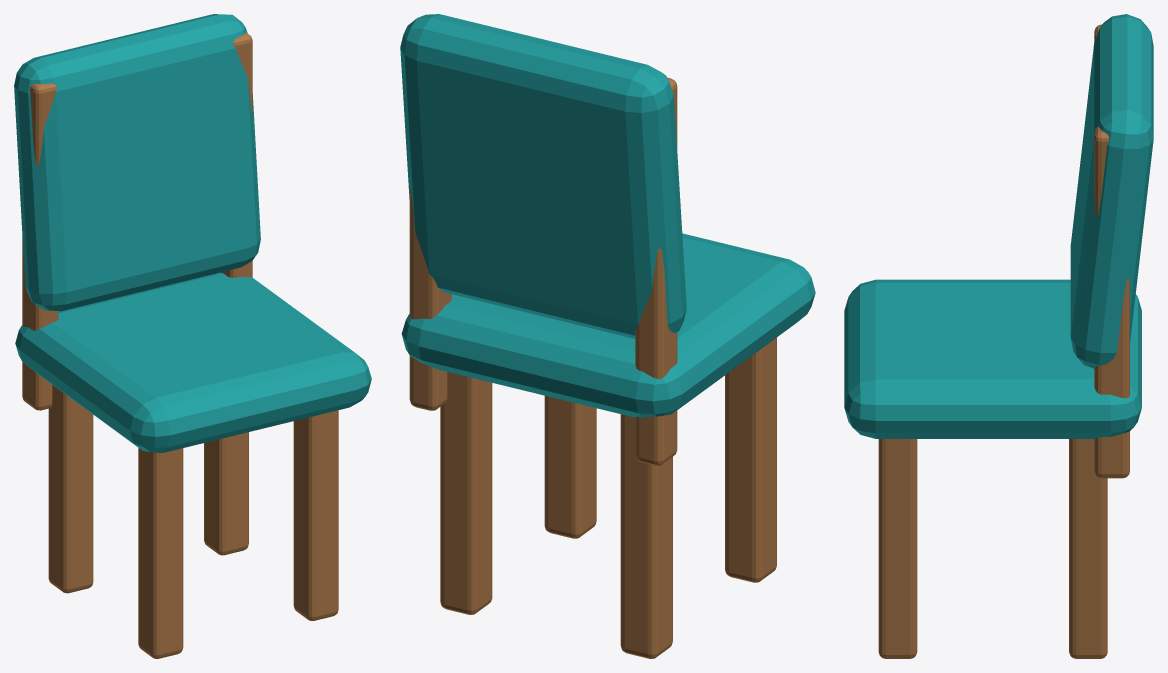
The model's file is AcademicChair.fbx.
3 renders of one model, left to right at view 1: azimuth 30°, elevation 25°; view 2: azimuth 150°, elevation 25°; view 3: azimuth 270°, elevation 25°, orthographic. The views are drawn at different scales.
Visible parts, largest first — view 1: Back cushion, Seat cushion, Leg.012, Leg.014, Leg.013, Leg.015, Back support, Back support.001; view 2: Back cushion, Seat cushion, Leg.015, Leg.012, Leg.013, Leg.014, Back support, Back support.001; view 3: Seat cushion, Back cushion, Leg.014, Leg.015, Back support.001.
Part boxes in pixels (<box>): Back cushion: <box>14,14,260,311</box>; Seat cushion: <box>15,272,371,452</box>; Leg.012: <box>138,448,183,658</box>; Leg.014: <box>293,410,338,620</box>; Leg.013: <box>48,385,93,593</box>; Leg.015: <box>204,432,248,555</box>; Back support: <box>22,83,58,410</box>; Back support.001: <box>220,32,252,277</box>; Back cushion: <box>400,14,686,338</box>; Seat cushion: <box>401,233,815,417</box>; Leg.015: <box>440,372,492,614</box>; Leg.012: <box>725,337,776,582</box>; Leg.013: <box>620,414,672,658</box>; Leg.014: <box>544,395,596,538</box>; Back support: <box>635,77,677,465</box>; Back support.001: <box>409,187,451,410</box>; Seat cushion: <box>844,279,1141,438</box>; Back cushion: <box>1070,14,1153,368</box>; Leg.014: <box>878,439,917,658</box>; Leg.015: <box>1069,439,1107,658</box>; Back support.001: <box>1094,127,1129,478</box>.
Bounding box in the file's own units: 0.49 × 1.02 × 0.5196.
